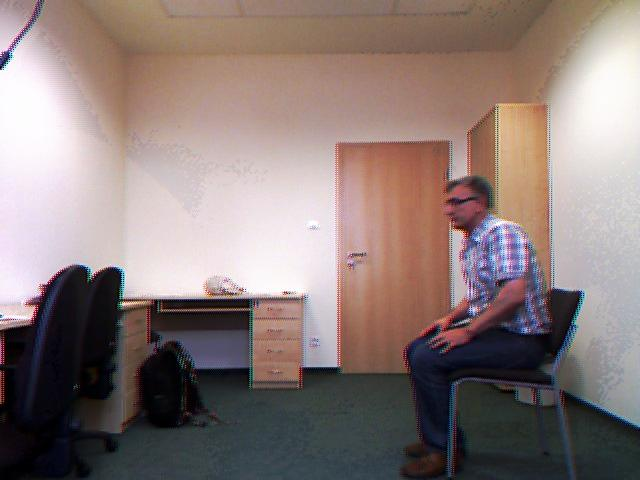sitting: (391, 172, 556, 480)
